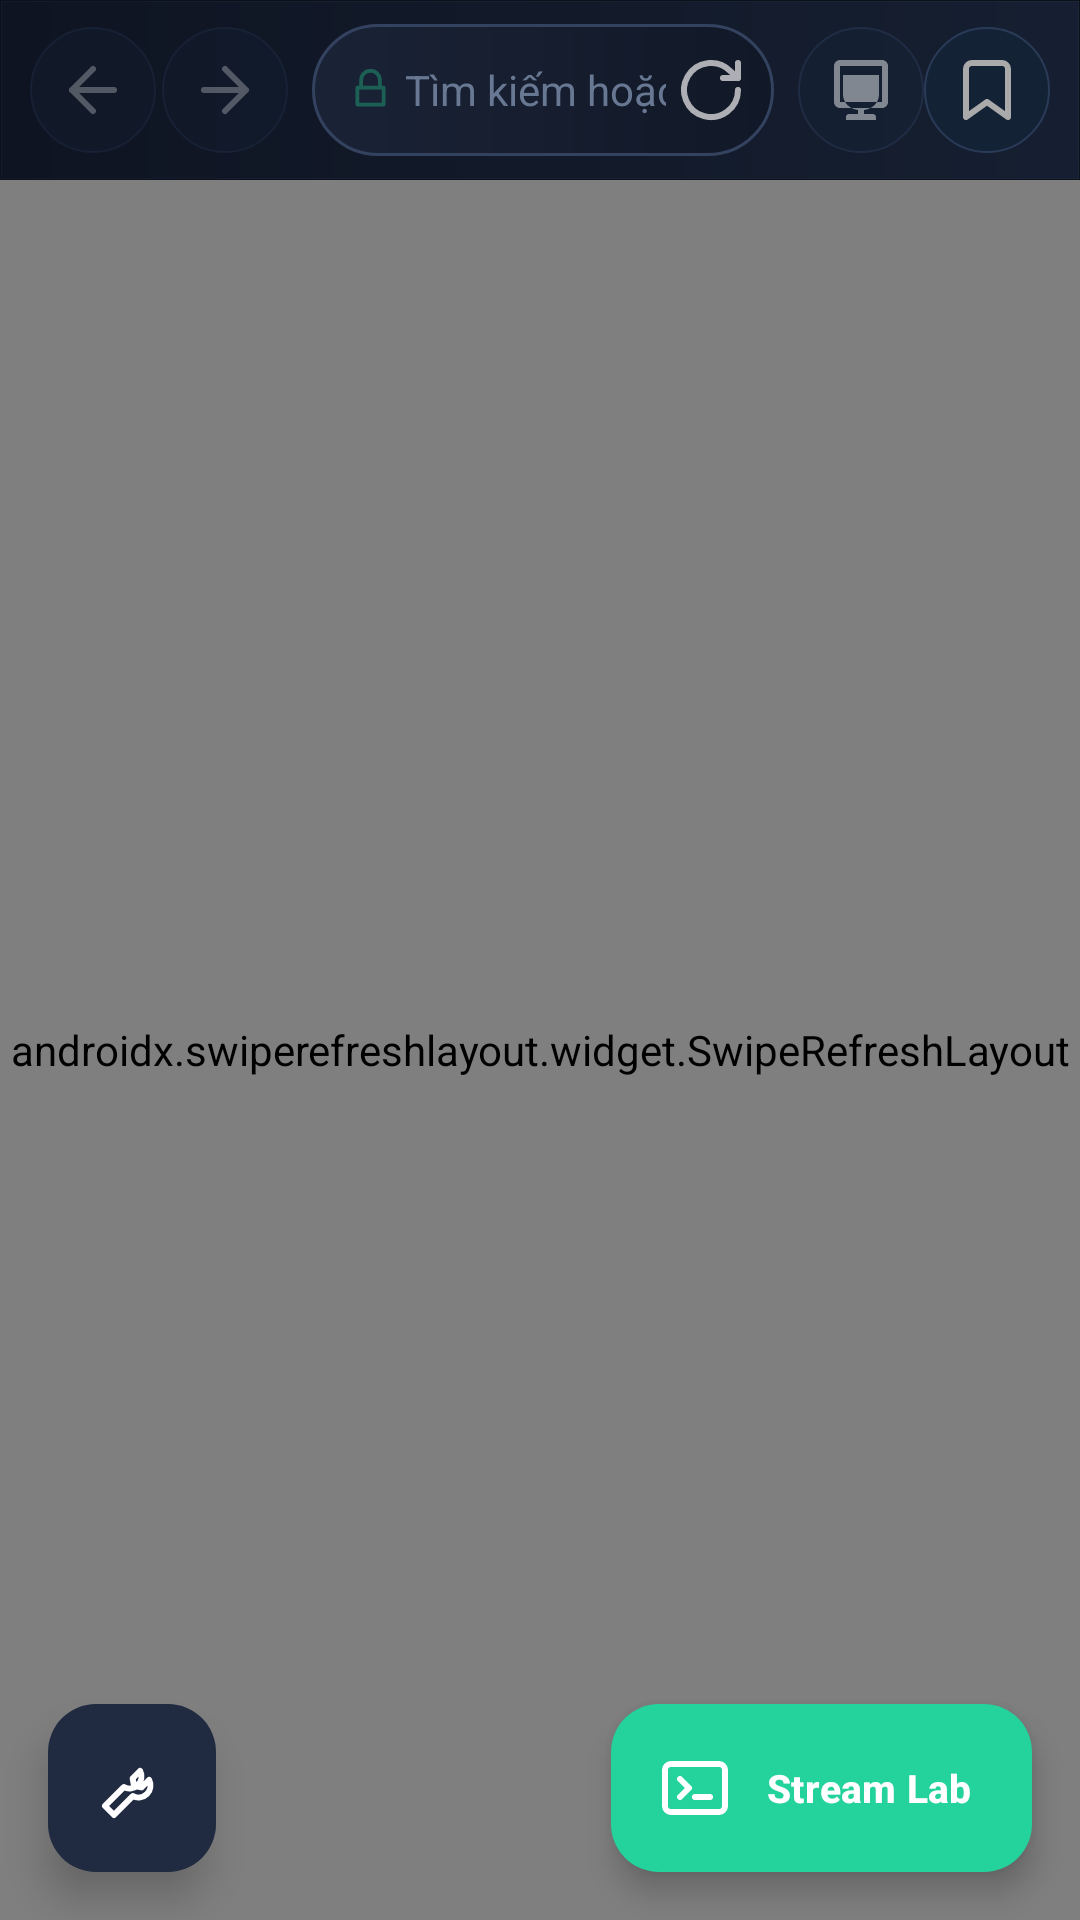

Screen size 1080 × 1920. Icon name, then its box in pixels as (x1, y1, x2, y2):
Back: (69, 66, 117, 114)
Bookmark: (924, 27, 1050, 153)
Cong cu: (48, 1704, 216, 1872)
Desktop mode: (834, 60, 888, 120)
Forward: (201, 66, 249, 114)
lock: (355, 69, 386, 107)
Reload: (681, 60, 741, 120)
